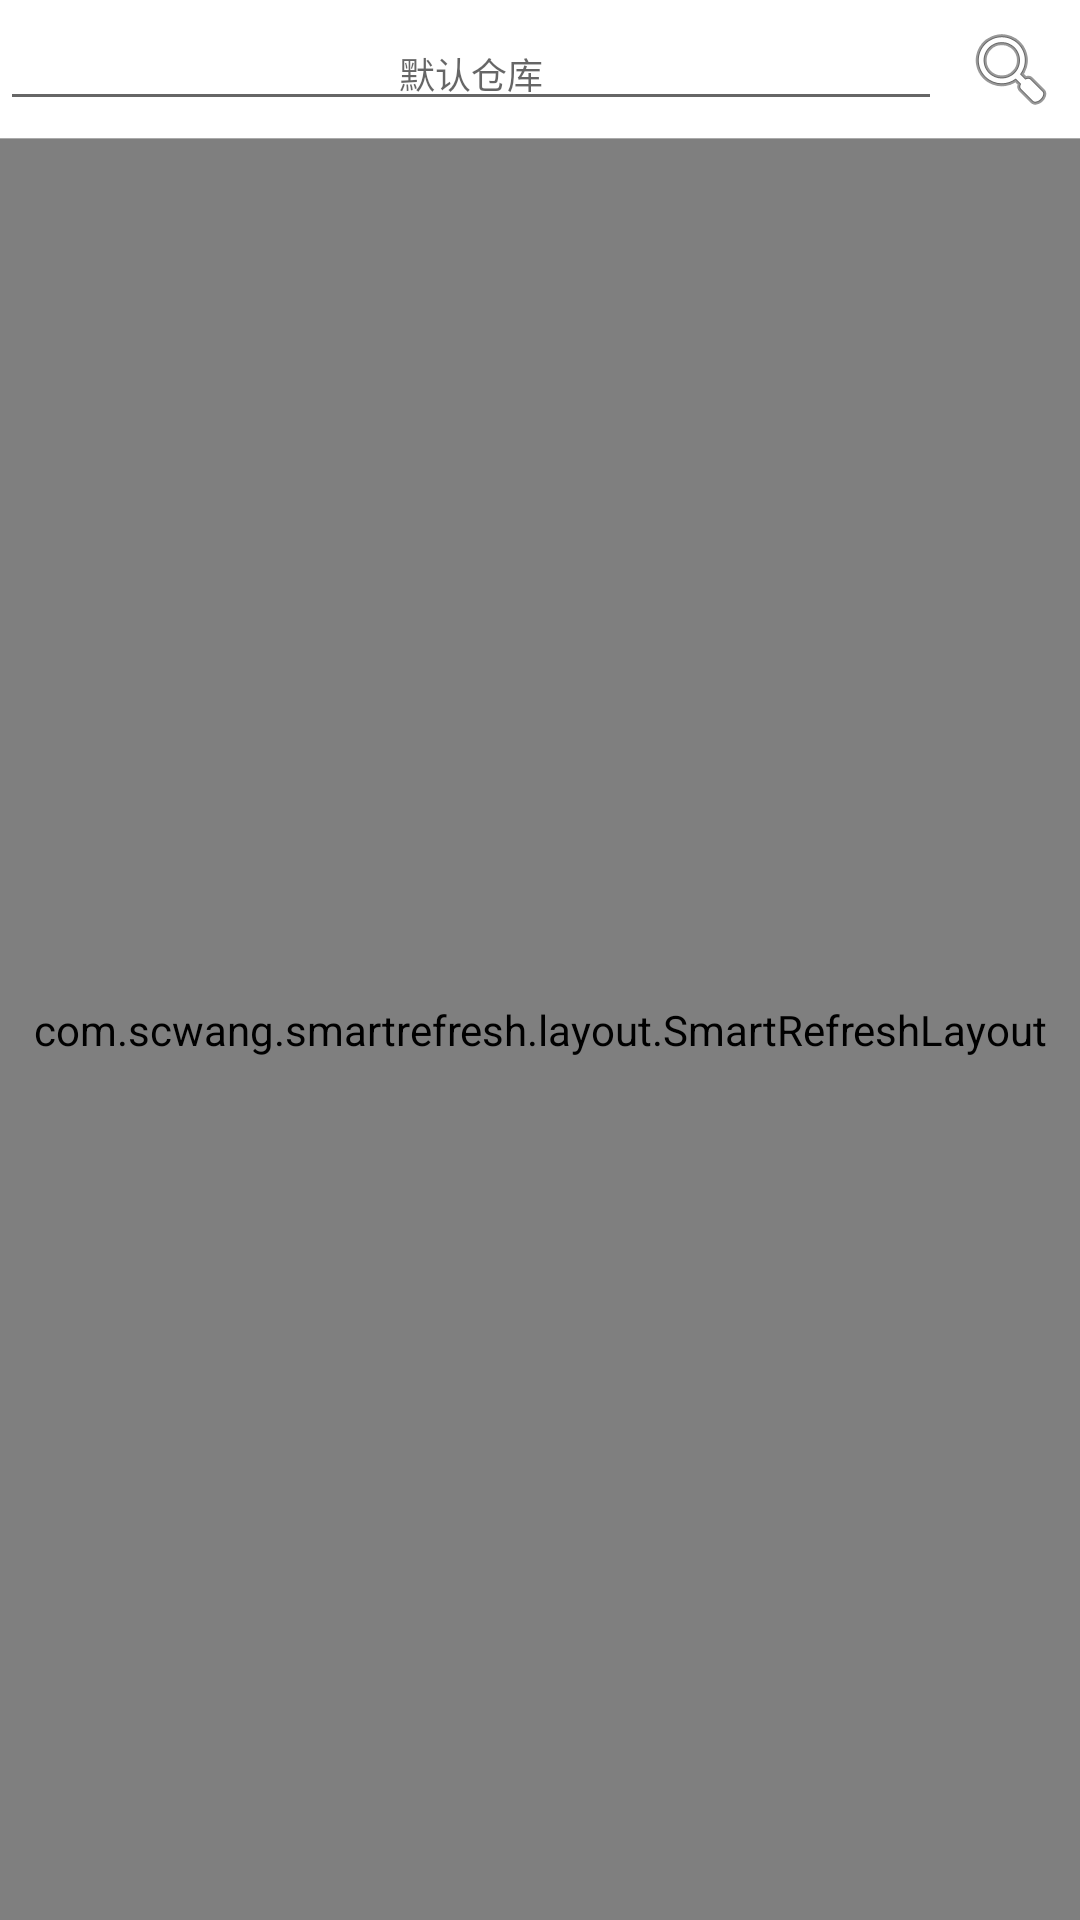

Point at icon controls on the screen. Image size 1080*1920, points as (x,y).
search: (1011,69)
